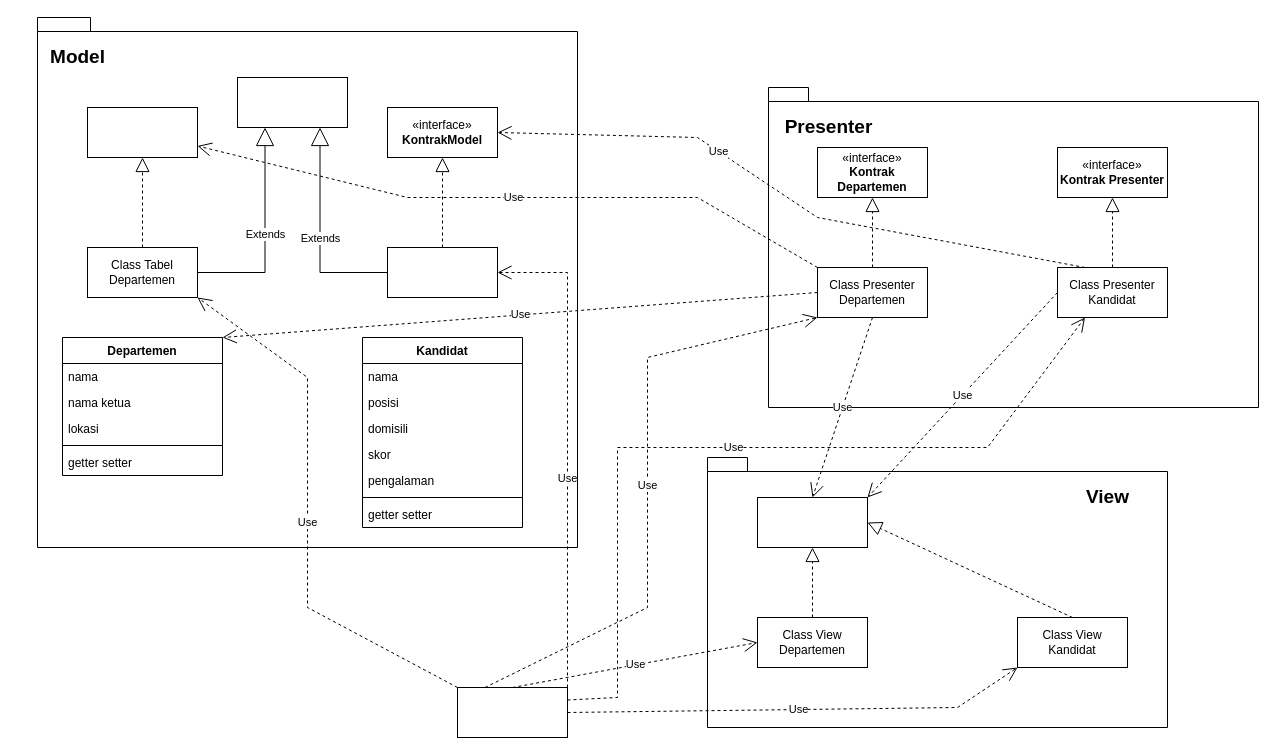
This 1276x755 diagram has some shape labels left out. The centre of each missing label's shape, as x and y in pixels:
"Class DB" goes at point 292,102.
"Class Index" goes at point 512,712.
"Class Tabel Kandidat" goes at point 442,272.
"«interface» DetailDepartemen" goes at point 142,132.
"«interface» Kontrak View" goes at point 812,522.
